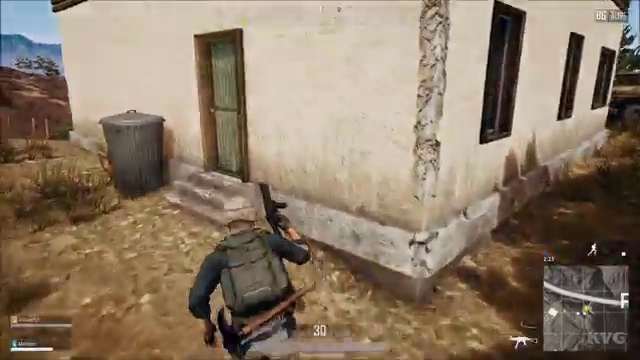Player: (173, 178, 347, 321)
